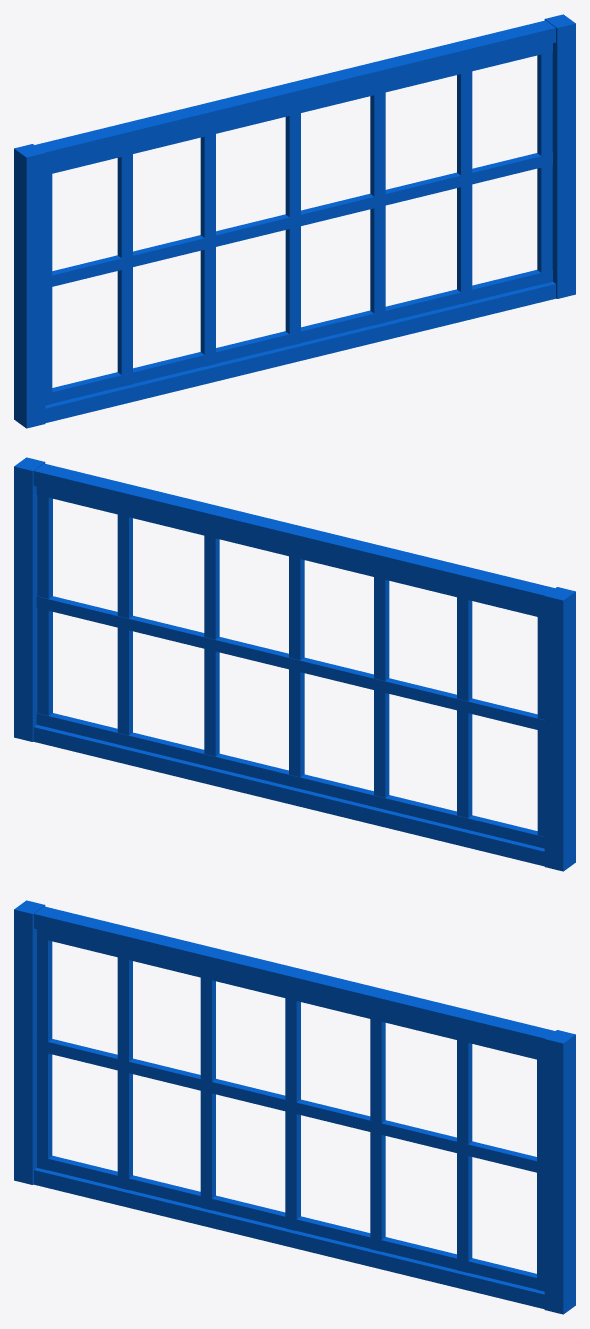
The model's file is Warehouse_04_Window_03B.fbx.
3 renders of one model, top to bottom at view 1: azimuth 30°, elevation 25°; view 2: azimuth 150°, elevation 25°; view 3: azimuth 330°, elevation 25°, orthographic.
Parts seen in each view (by area): view 1: Warehouse_04_Window_03B; view 2: Warehouse_04_Window_03B; view 3: Warehouse_04_Window_03B.
Part boxes in pixels (x1,y1,x2,y2): Warehouse_04_Window_03B: [14, 14, 575, 428]; Warehouse_04_Window_03B: [14, 457, 575, 871]; Warehouse_04_Window_03B: [14, 900, 575, 1314].
Size of the model in its own units: 365 by 172 by 14.38.
